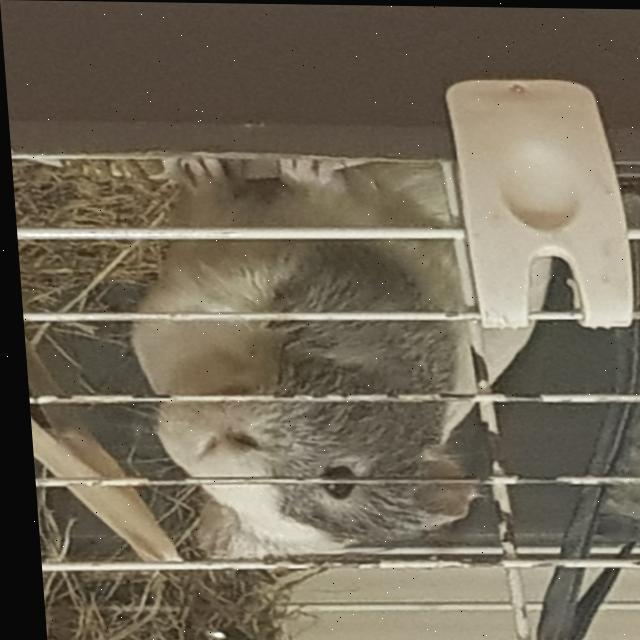guinea pig: (96, 151, 571, 565)
